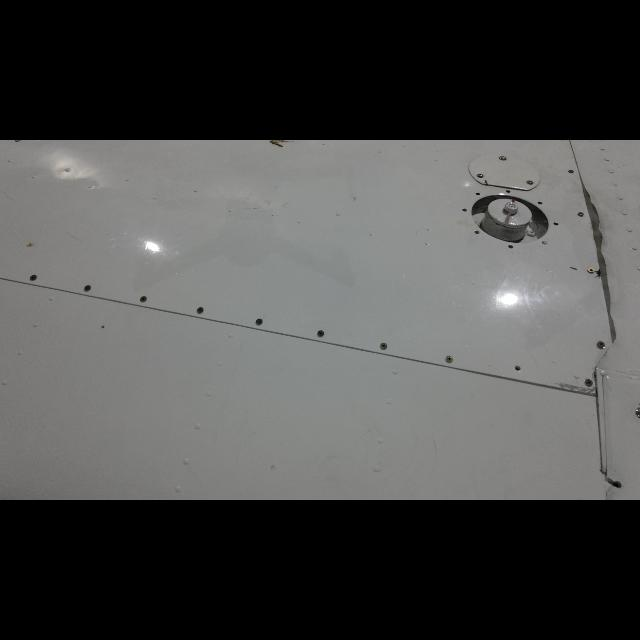Missing Fastener: (510, 362, 528, 378), (458, 205, 469, 217), (536, 196, 546, 208), (472, 188, 482, 198), (473, 229, 481, 239), (506, 242, 516, 250), (550, 220, 560, 228), (504, 186, 512, 194)
dent: (578, 178, 622, 354)
